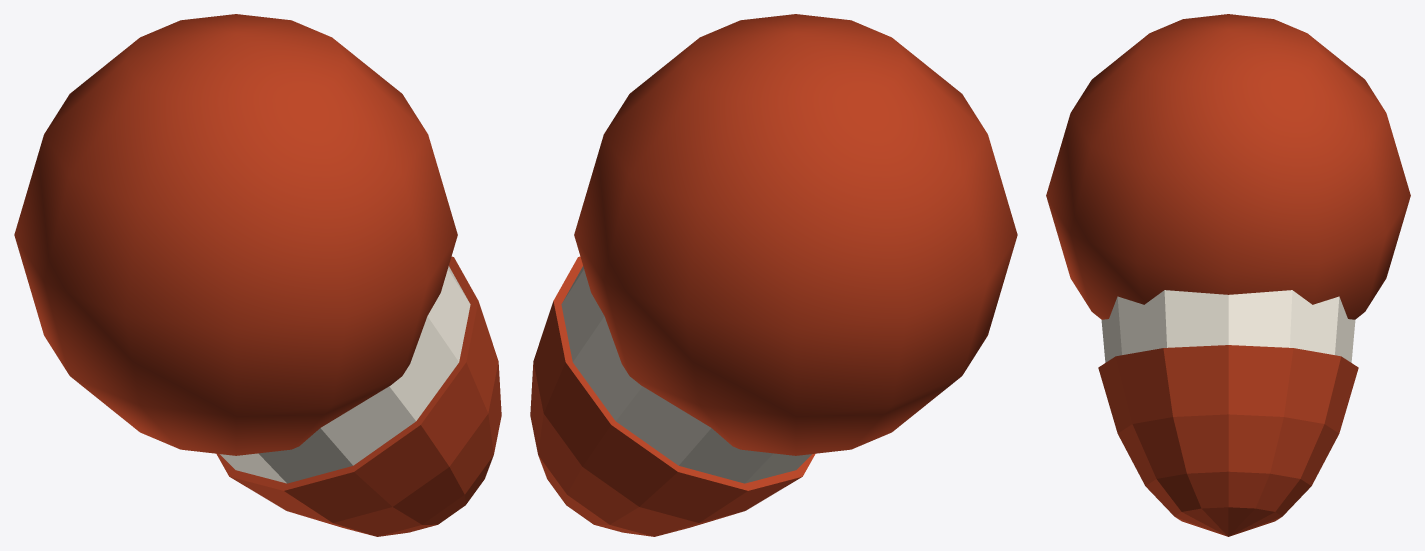
File: round3.glb
3 renders of one model, left to right at view 1: azimuth 30°, elevation 25°; view 2: azimuth 150°, elevation 25°; view 3: azimuth 270°, elevation 25°, orthographic. The views are drawn at different scales.
Parts seen in each view (by area): view 1: core, cap-bottom, swirl-band; view 2: core, cap-bottom, swirl-band; view 3: core, cap-bottom, swirl-band.
Part boxes in pixels (x1=…): core: x1=14, y1=14, x2=457, y2=455; cap-bottom: x1=216, y1=256, x2=501, y2=536; swirl-band: x1=220, y1=266, x2=470, y2=483; core: x1=574, y1=14, x2=1017, y2=455; cap-bottom: x1=530, y1=256, x2=815, y2=536; swirl-band: x1=561, y1=266, x2=811, y2=483; core: x1=1046, y1=14, x2=1410, y2=319; cap-bottom: x1=1098, y1=345, x2=1358, y2=536; swirl-band: x1=1101, y1=290, x2=1355, y2=362.
Size of the model in its own units: 0.8737 by 1 by 0.7594.
